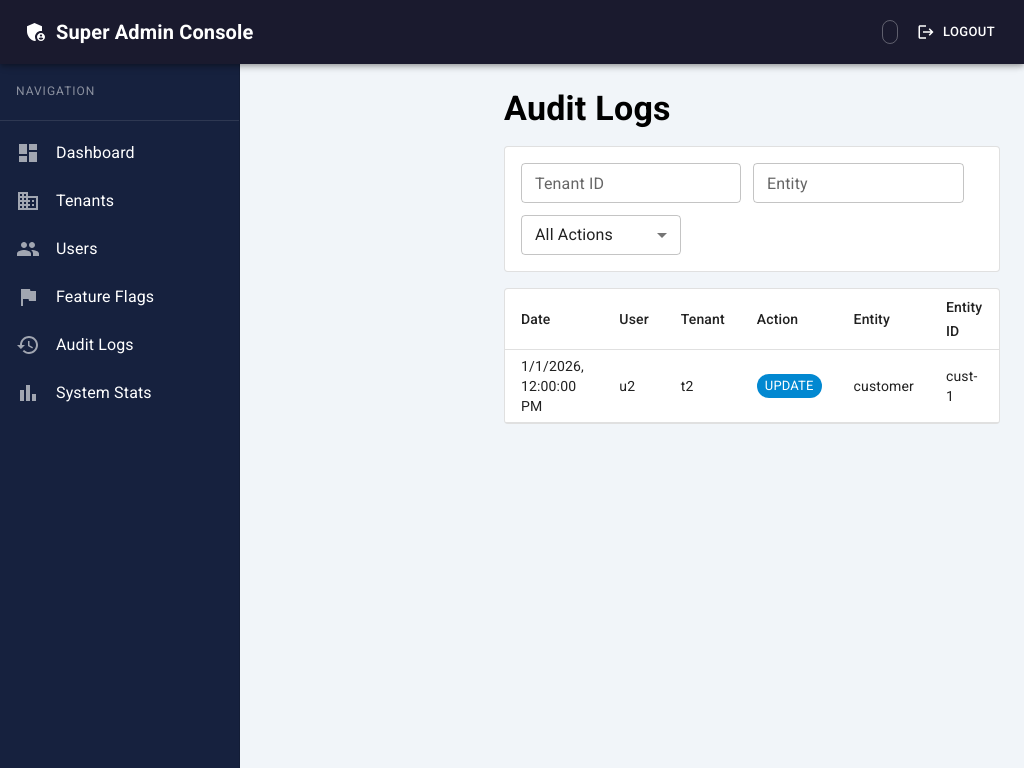
Test case: Admin AuditLogs page › opens detail modal when row clicked
Click the text "cust-1" at (964, 386), box [930,350,999,422]
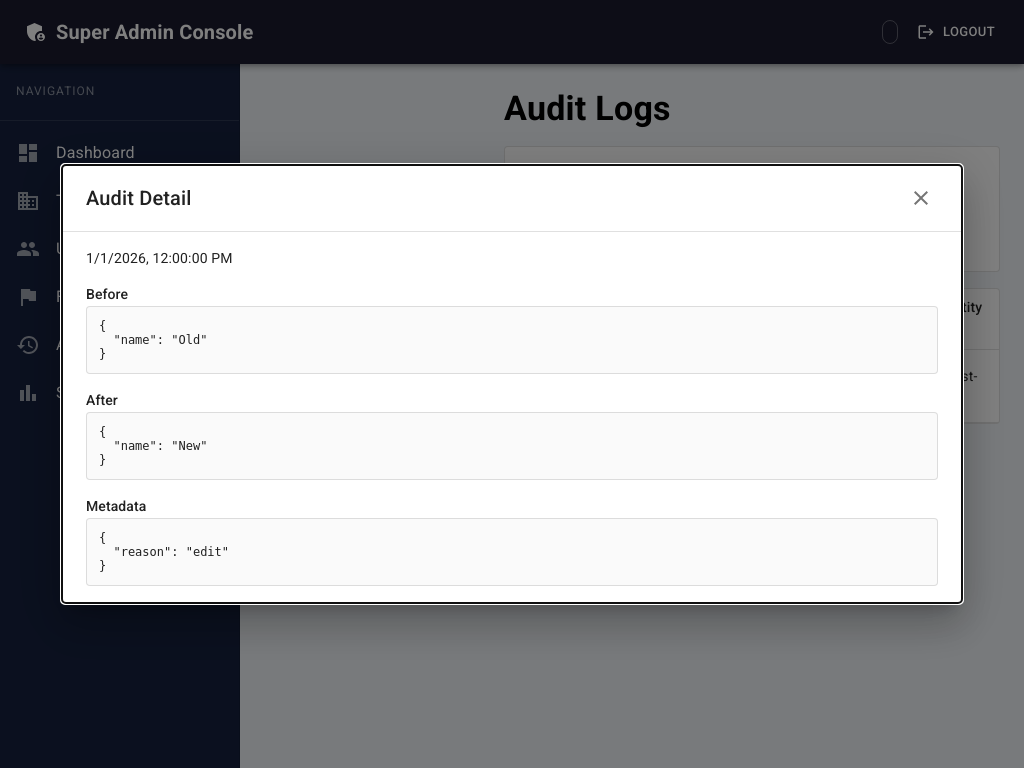
Expected: the text "Audit Detail" is shown, [86,182,192,214]
Expected: the heading "Before" is shown, [86,286,128,302]
Expected: the heading "After" is shown, [86,392,118,408]
